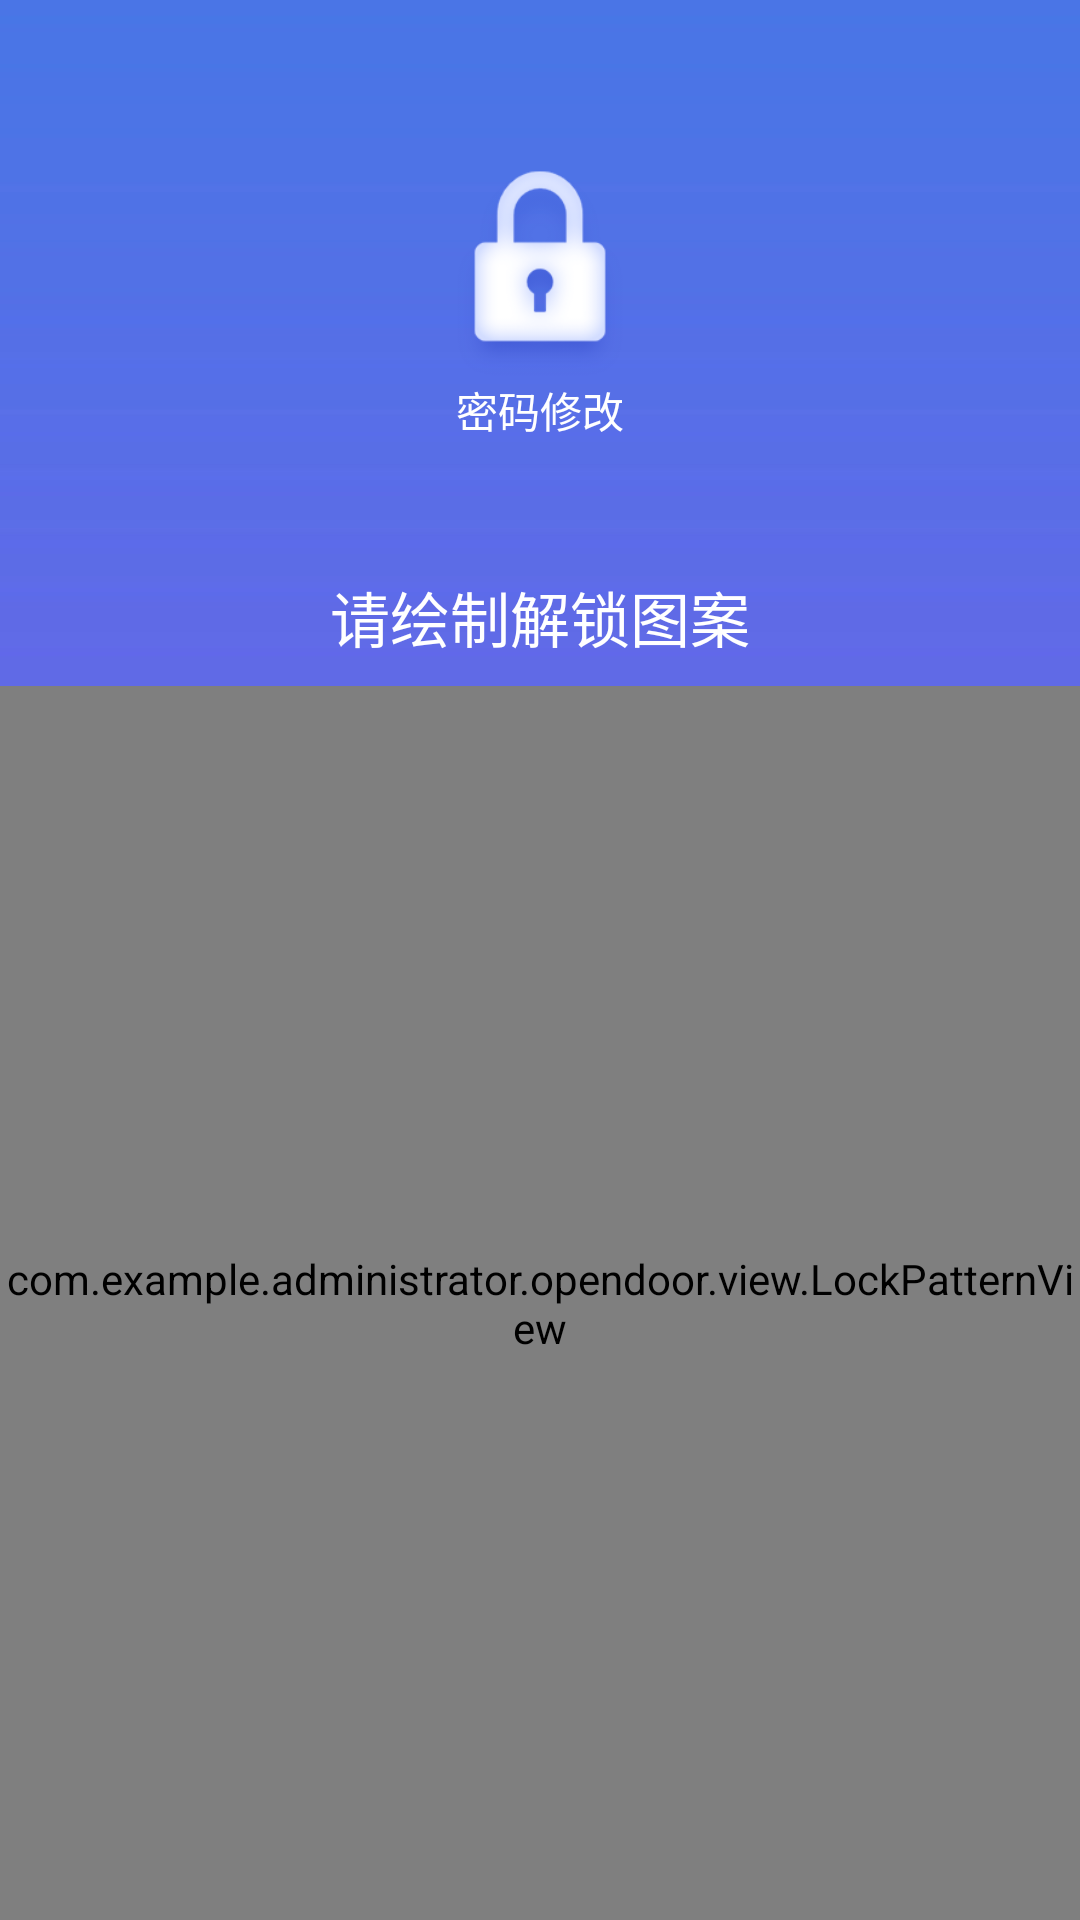

Icons on this 1080w x 1920h Android screen, each with its box as (x1, y1, x2, y2):
od pass: (474, 171, 606, 342)
